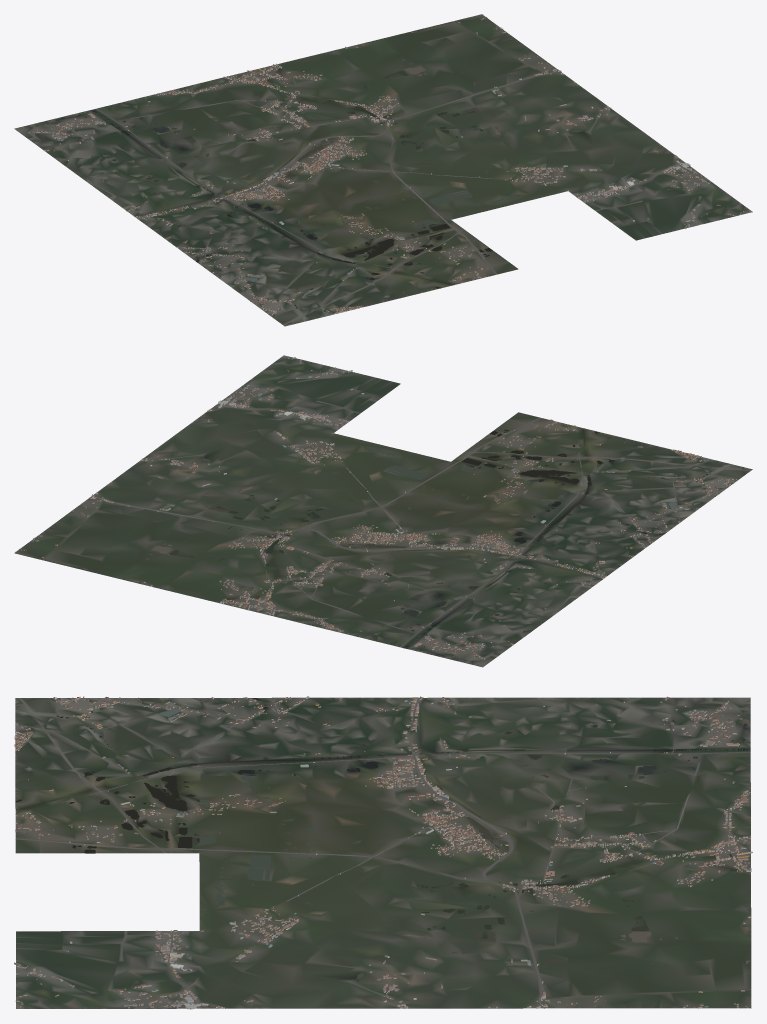
The picture shows the model from 3 angles, top to bottom: view 1: azimuth 30°, elevation 25°; view 2: azimuth 150°, elevation 25°; view 3: azimuth 270°, elevation 25°; orthographic projection. The views are drawn at different scales.
Visible parts, largest first — view 1: ground, buildings, water, roads; view 2: ground, buildings, water, roads; view 3: ground, buildings, water, roads.
Part boxes in pixels (bbox=[...]): ground: bbox=[14, 14, 752, 326]; buildings: bbox=[28, 14, 749, 315]; water: bbox=[27, 31, 704, 308]; roads: bbox=[96, 69, 677, 325]; ground: bbox=[14, 355, 752, 667]; buildings: bbox=[15, 356, 738, 659]; water: bbox=[82, 429, 710, 663]; roads: bbox=[90, 405, 751, 647]; ground: bbox=[15, 697, 751, 1008]; buildings: bbox=[14, 696, 752, 1009]; water: bbox=[15, 698, 750, 1008]; roads: bbox=[15, 697, 750, 1008].
Bounding box in the file's own units: 5632 × 26.14 × 5635.
